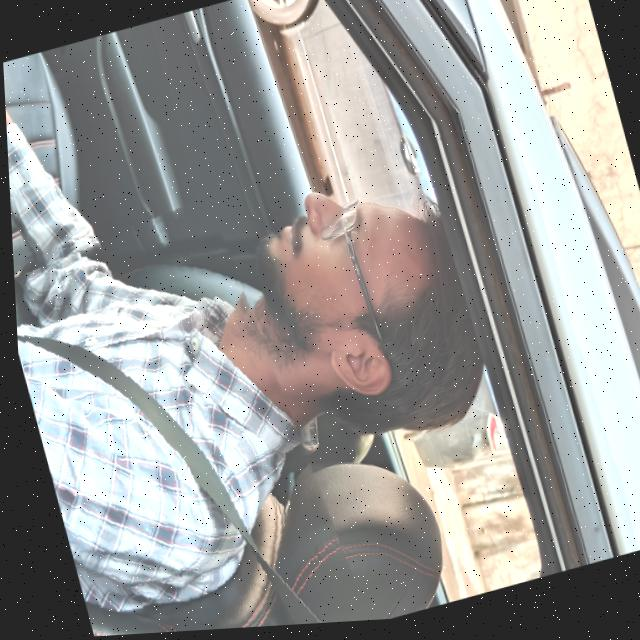seatbelt: (8, 191, 352, 640)
